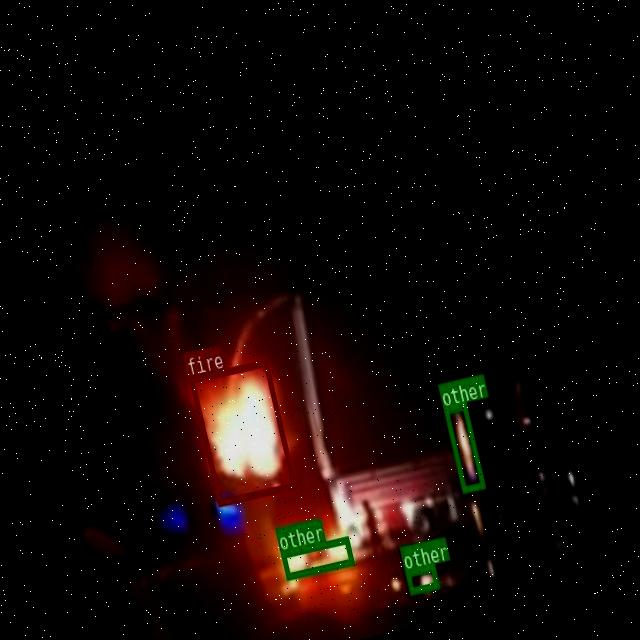fire: (188, 358, 296, 506)
